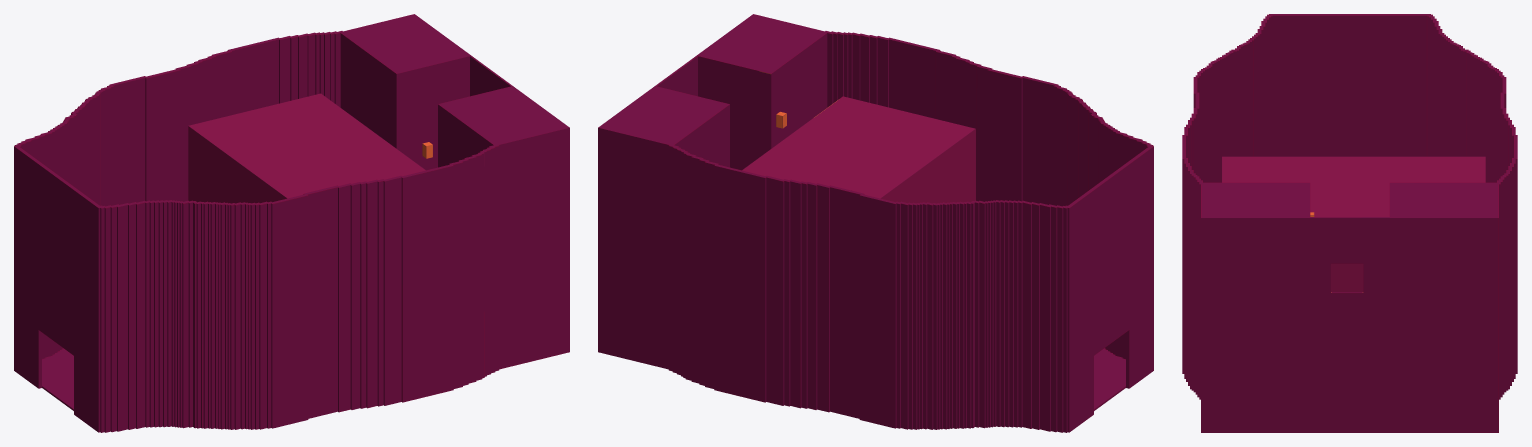
The model's file is muro (1).fbx.
3 renders of one model, left to right at view 1: azimuth 30°, elevation 25°; view 2: azimuth 150°, elevation 25°; view 3: azimuth 270°, elevation 25°, orthographic. The views are drawn at different scales.
Visible parts, largest first — view 1: muro.001; view 2: muro.001; view 3: muro.001.
Part boxes in pixels (box(x1,y1,x2,y2)): muro.001: box(14, 14, 569, 432); muro.001: box(598, 14, 1153, 432); muro.001: box(1182, 14, 1517, 432).
Size of the model in its own units: 25.6 by 12.6 by 17.8.
